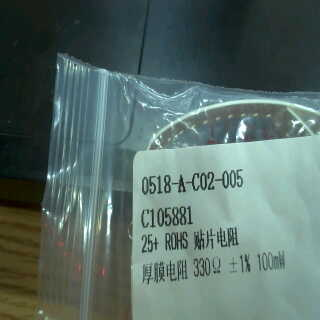330R: (191, 254, 226, 281)
